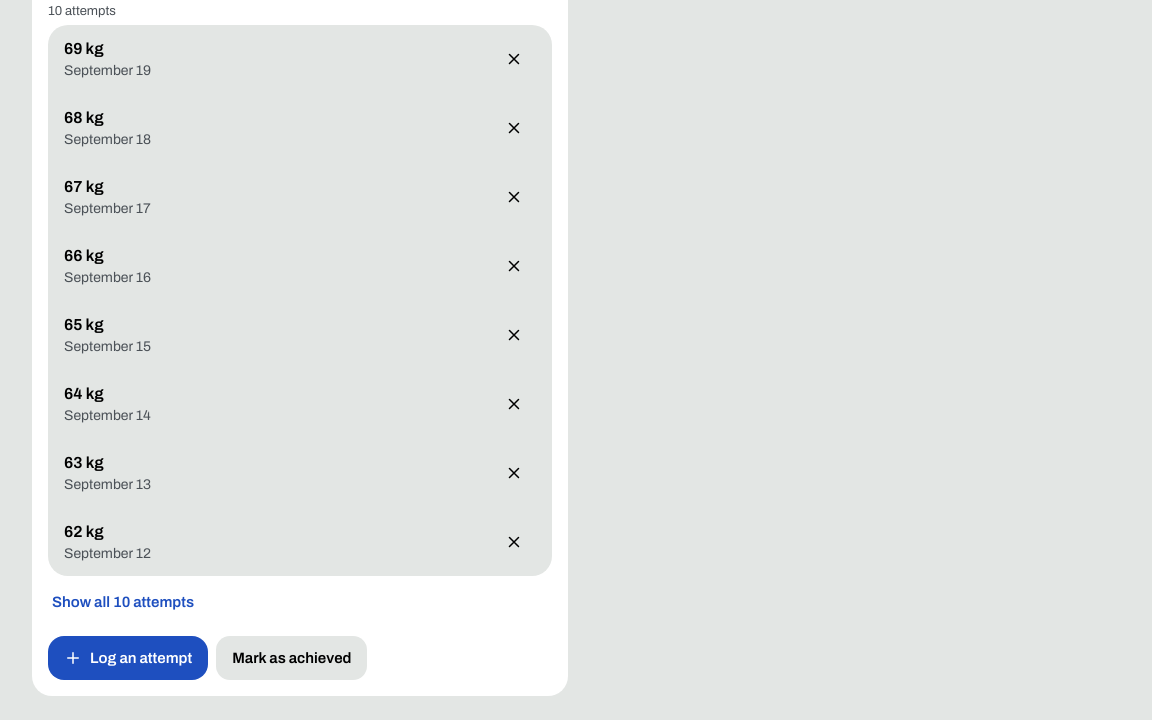
it: MyGoals: a goal › shows eight attempts, and the others on a tap
The width and height of the screenshot is (1152, 720).
(page scrolled)
Click the button "Show all 10 attempts" at [123, 602], box [48, 580, 198, 624]
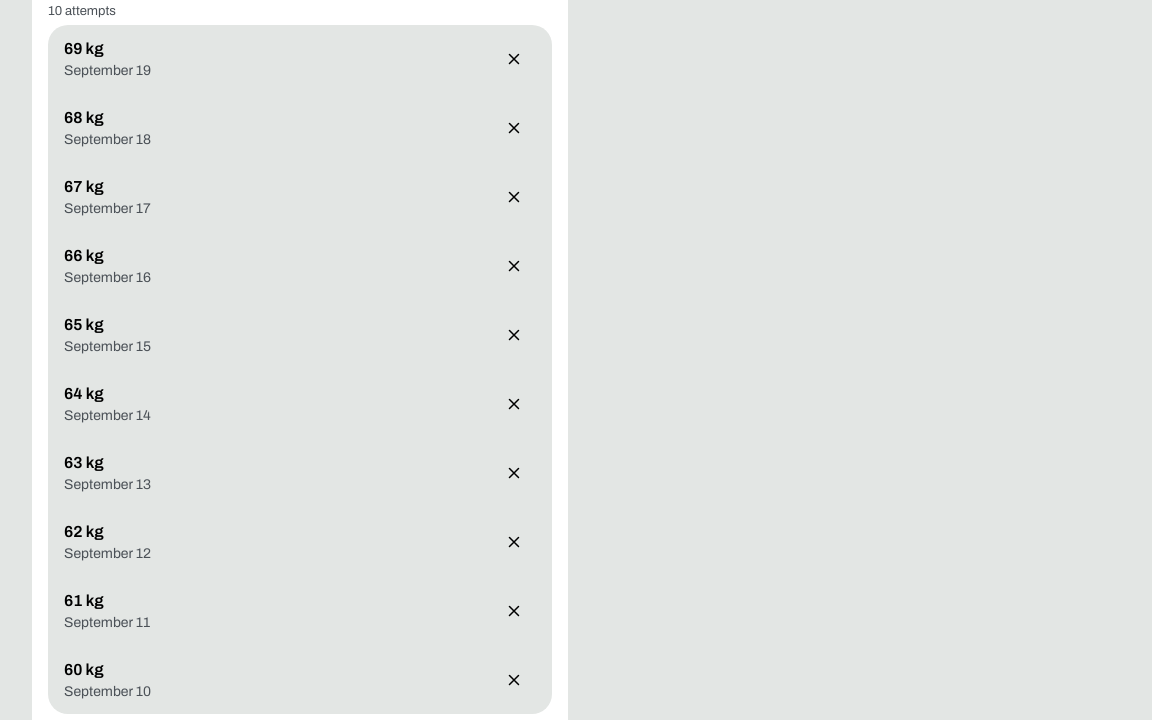
Check: the button "Show all 10 attempts" is gone
